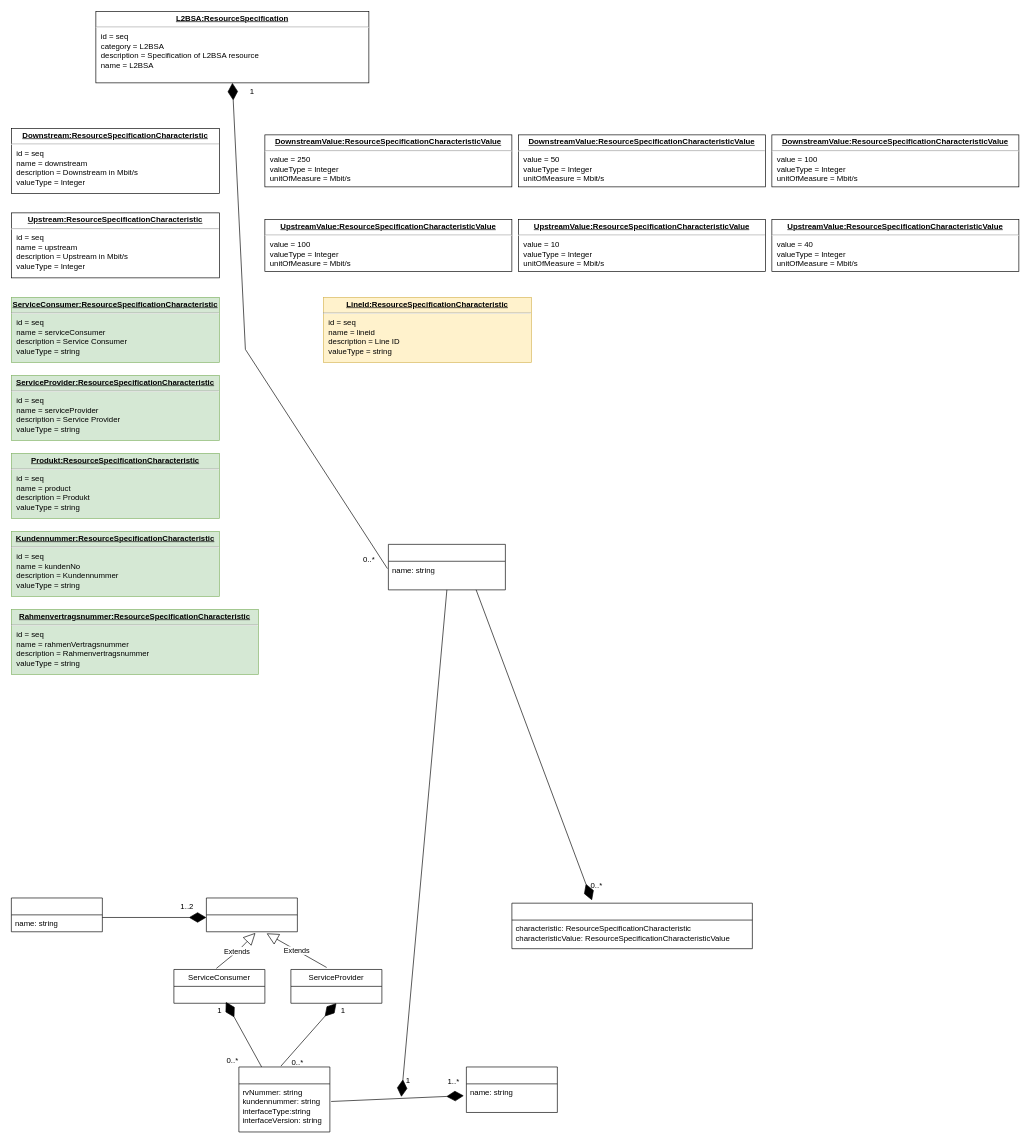
Some shapes in this 1030 by 1145 pixel diagram are drawn without their labels. Each missing label, with the box of its shape:
PlatformPartner: (11, 897, 102, 932)
PlatformPartnerRole: (206, 897, 297, 932)
Produkt: (466, 1066, 557, 1112)
Rahmenvertrag: (238, 1066, 330, 1132)
ResourceProductMapping: (388, 544, 505, 590)
SimpleMappingRule: (511, 903, 752, 949)
